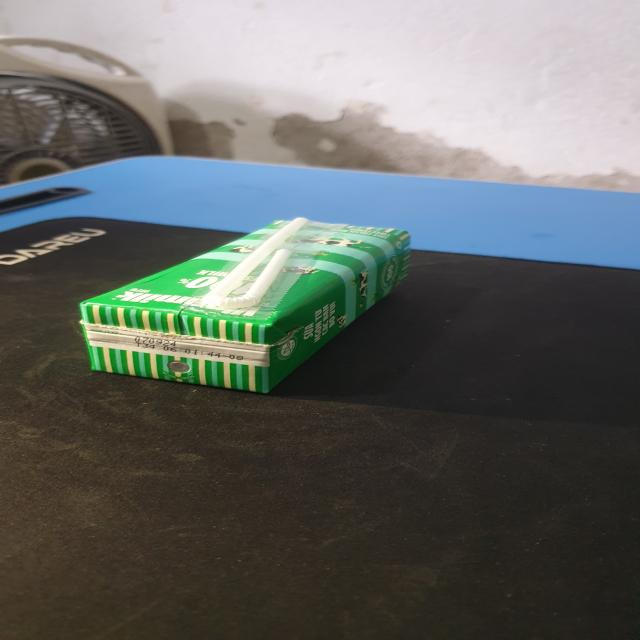Vina: (83, 217, 421, 393)
